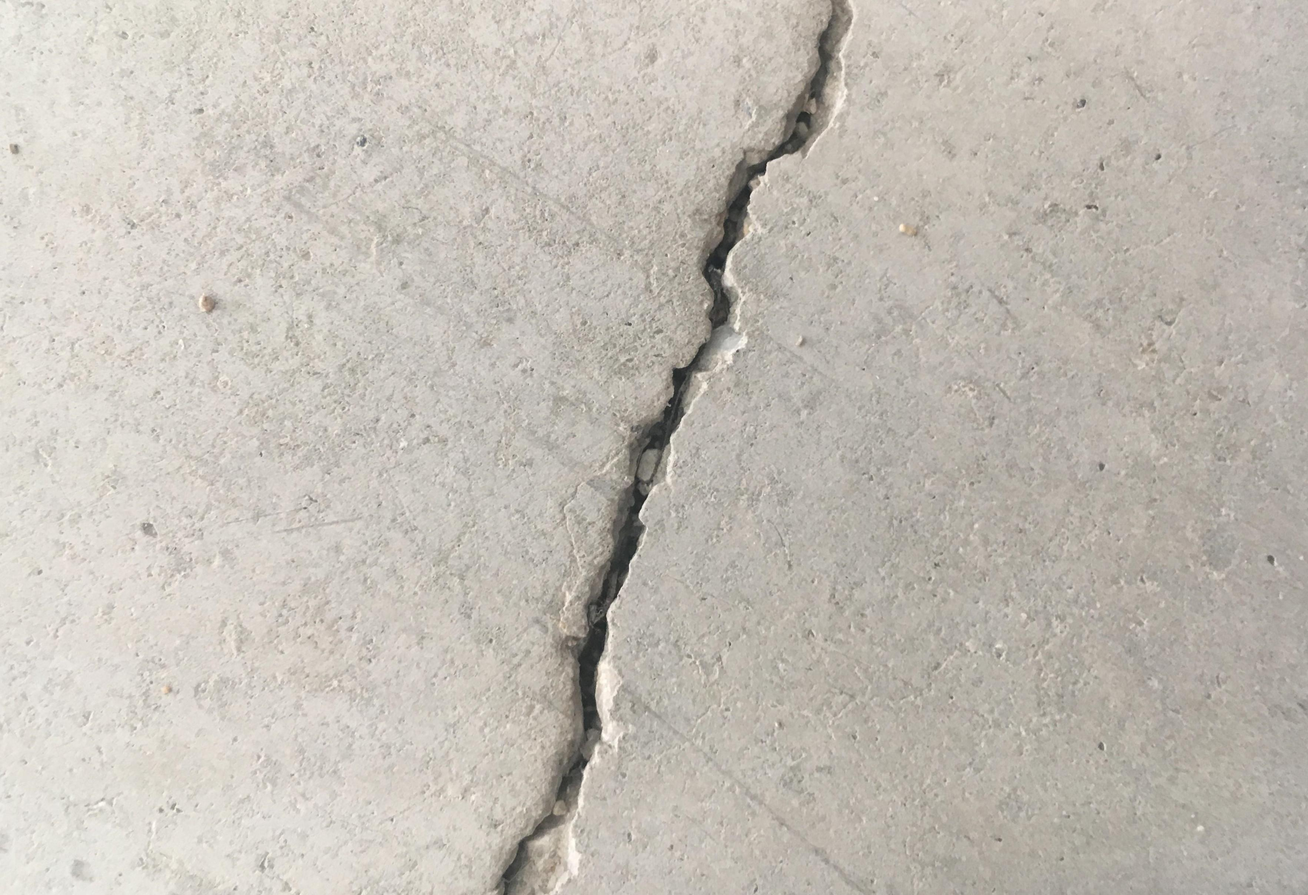Vertical Crack: (495, 1, 858, 891)
